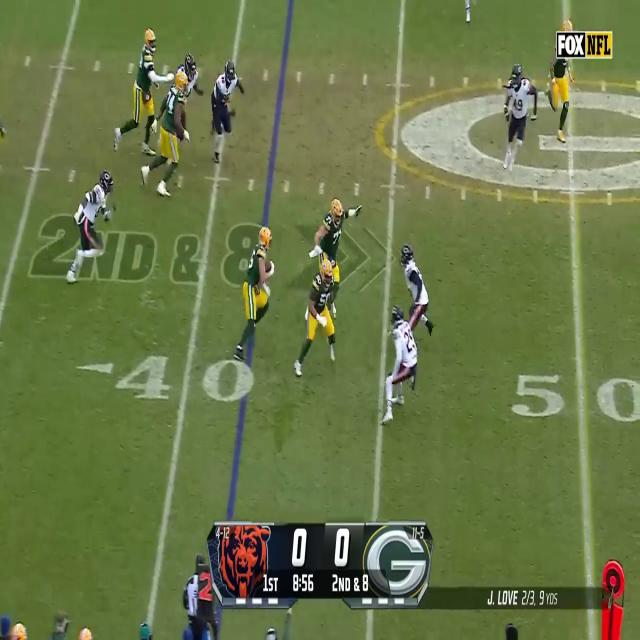Player: (312, 198, 364, 318), (293, 256, 343, 377), (237, 224, 276, 364), (153, 74, 190, 198), (74, 165, 112, 278), (382, 303, 417, 424), (128, 23, 158, 156), (504, 58, 532, 170), (211, 59, 238, 168), (402, 243, 427, 329)
